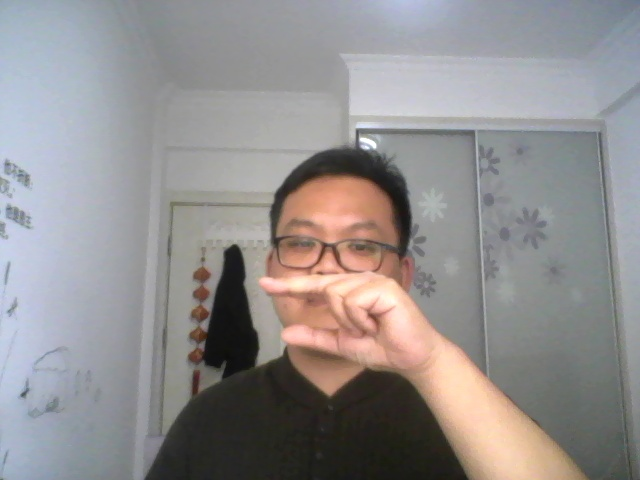No: (250, 265, 466, 381)
